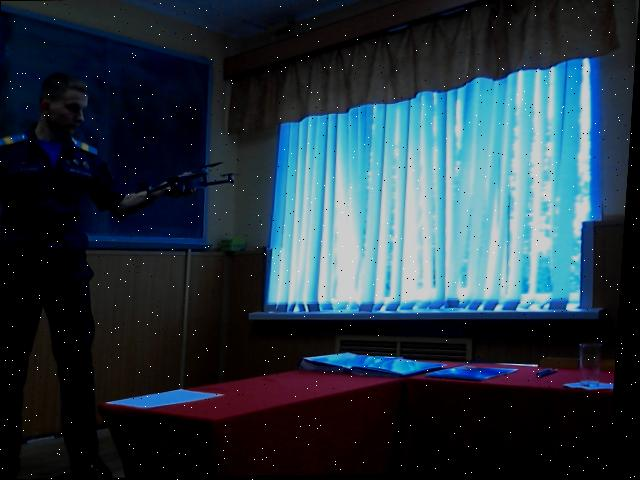drone: (130, 145, 257, 206)
